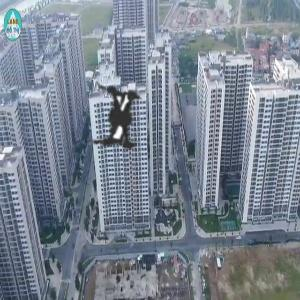drone: (20, 8, 229, 217)
